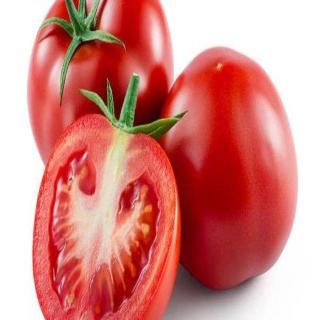Tomat: (158, 46, 300, 292), (28, 1, 175, 167)
